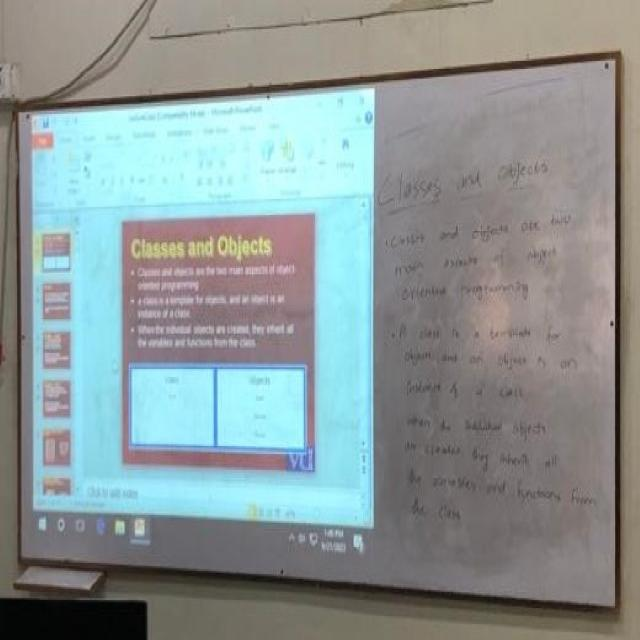Slide: (34, 79, 373, 558)
White-board: (18, 51, 618, 606)
